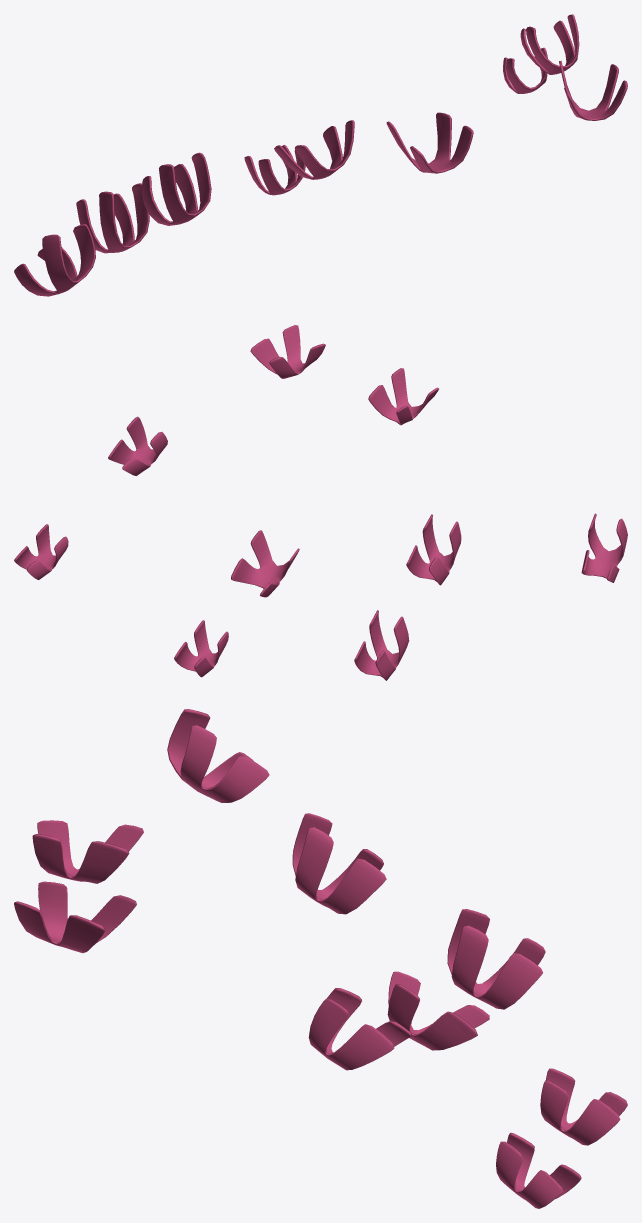
3 renders of one model, top to bottom at view 1: azimuth 30°, elevation 25°; view 2: azimuth 150°, elevation 25°; view 3: azimuth 270°, elevation 25°, orthographic. The views are drawn at different scales.
Parts seen in each view (by area): view 1: 左侧指纤维鞘交叉部; view 2: 左侧指纤维鞘交叉部; view 3: 左侧指纤维鞘交叉部.
Part boxes in pixels (bbox=[...]): 左侧指纤维鞘交叉部: bbox=[14, 14, 627, 296]; 左侧指纤维鞘交叉部: bbox=[14, 325, 627, 680]; 左侧指纤维鞘交叉部: bbox=[14, 709, 627, 1208].
Bounding box in the file's own units: 0.1205 × 0.0452 × 0.0825.
